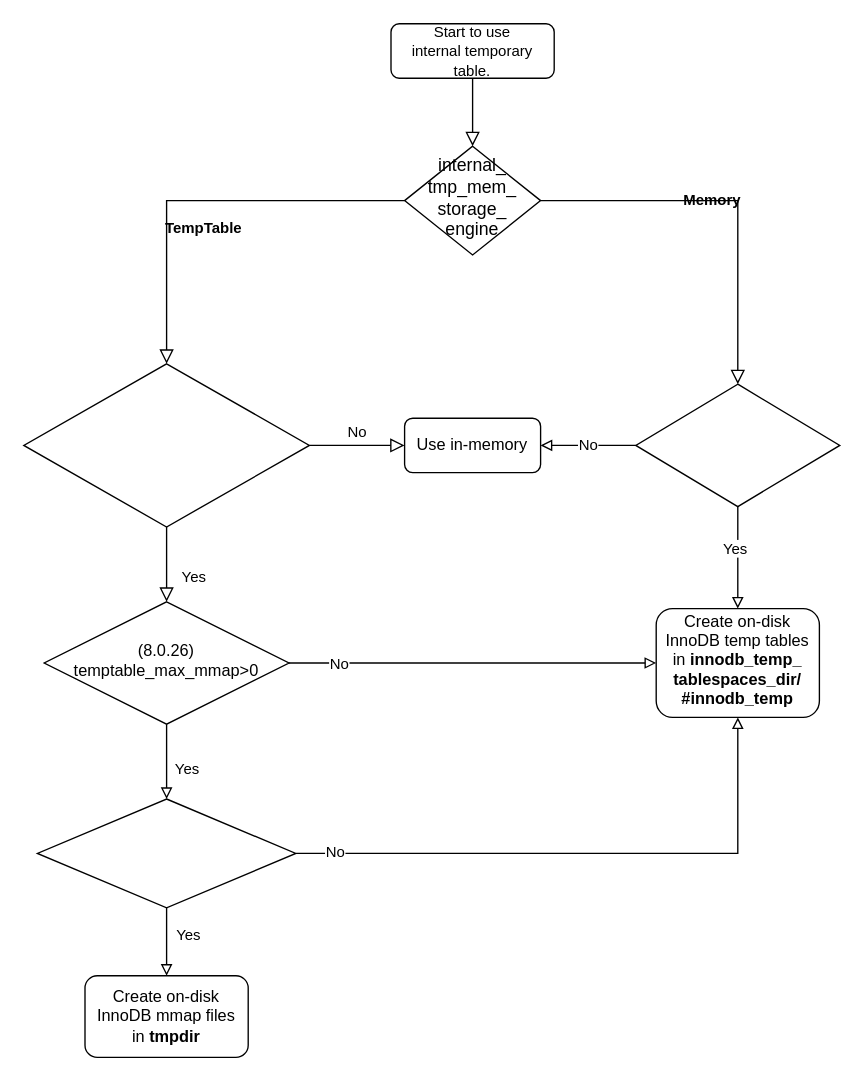
Some shapes in this 864 by 1081 pixel diagram are drawn without their labels. The shapes that lost their labels are listed below. From the top down, each one's centre as x and y in pixels, then its label:
pixel 165 444: required size > tmp_table_size or sum(TempTable size) > temptable_max_ram
pixel 737 445: required size > min(tmp_table_size, max_heap_table_size)
pixel 166 853: sum(mmap files) < temptable_max_mmap
